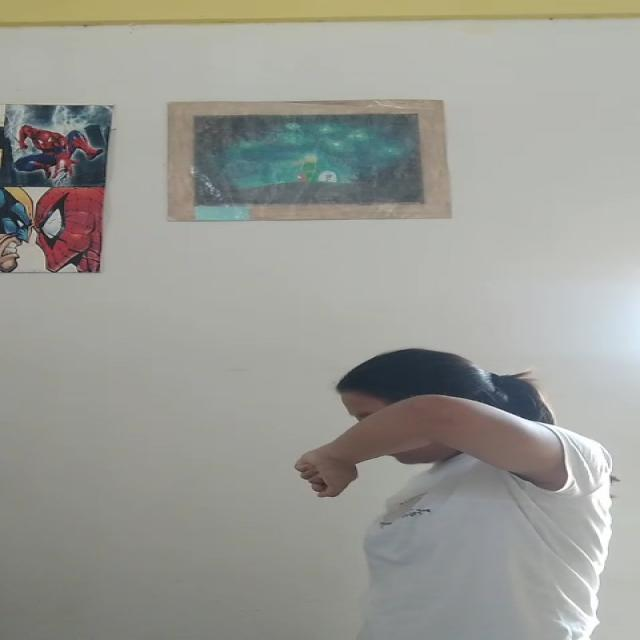7_mano_rostro: (351, 391, 557, 471)
